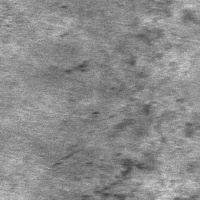rolled-in_scale: (71, 101, 199, 198), (71, 27, 169, 87)
